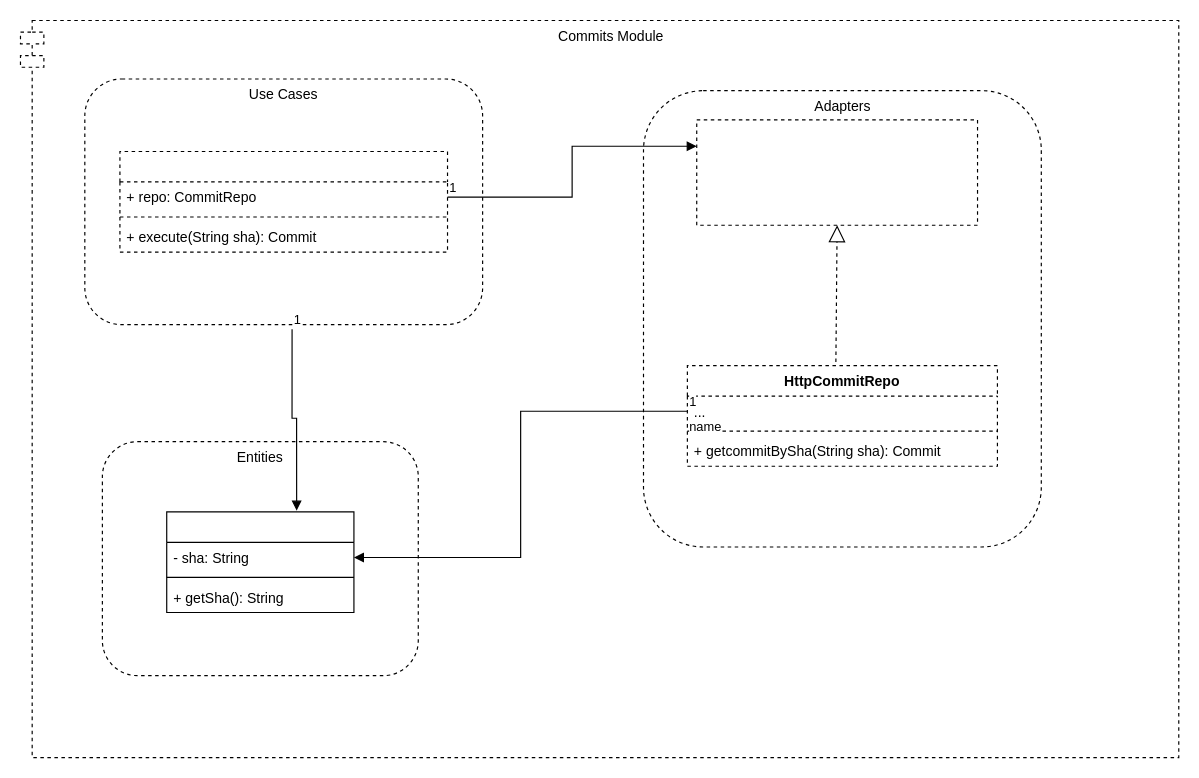
Some shapes in this 1199 by 778 pixel diagram are drawn without their labels. The box of each missing label's shape, as (x1, y1, x2, y2) in pixels:
<<Interface>> CommitRepo + getCommitBySha(String sha): Commit: (696, 119, 978, 225)
Commit: (166, 511, 354, 612)
GetCommitByShaInteractor: (119, 150, 448, 252)
